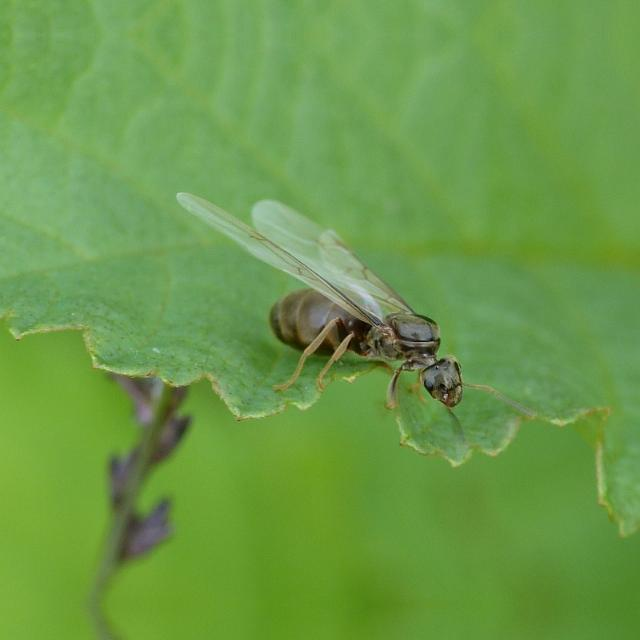Lasius: (200, 152, 500, 436)
